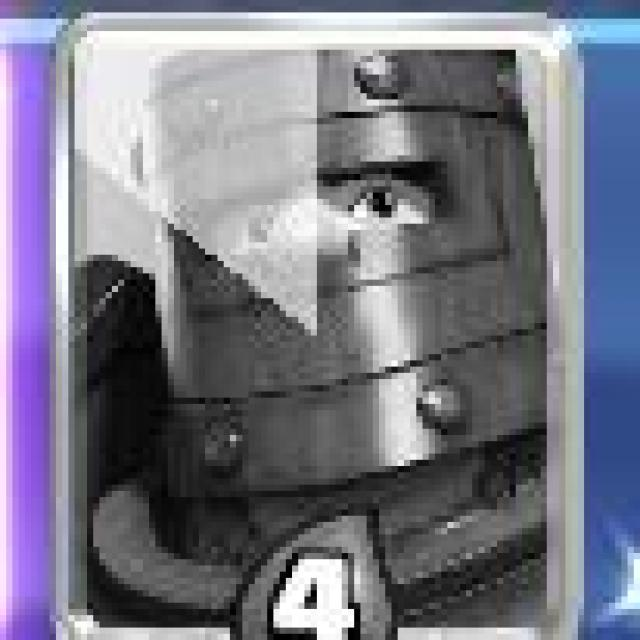Dark_Prince: (48, 7, 588, 640)
